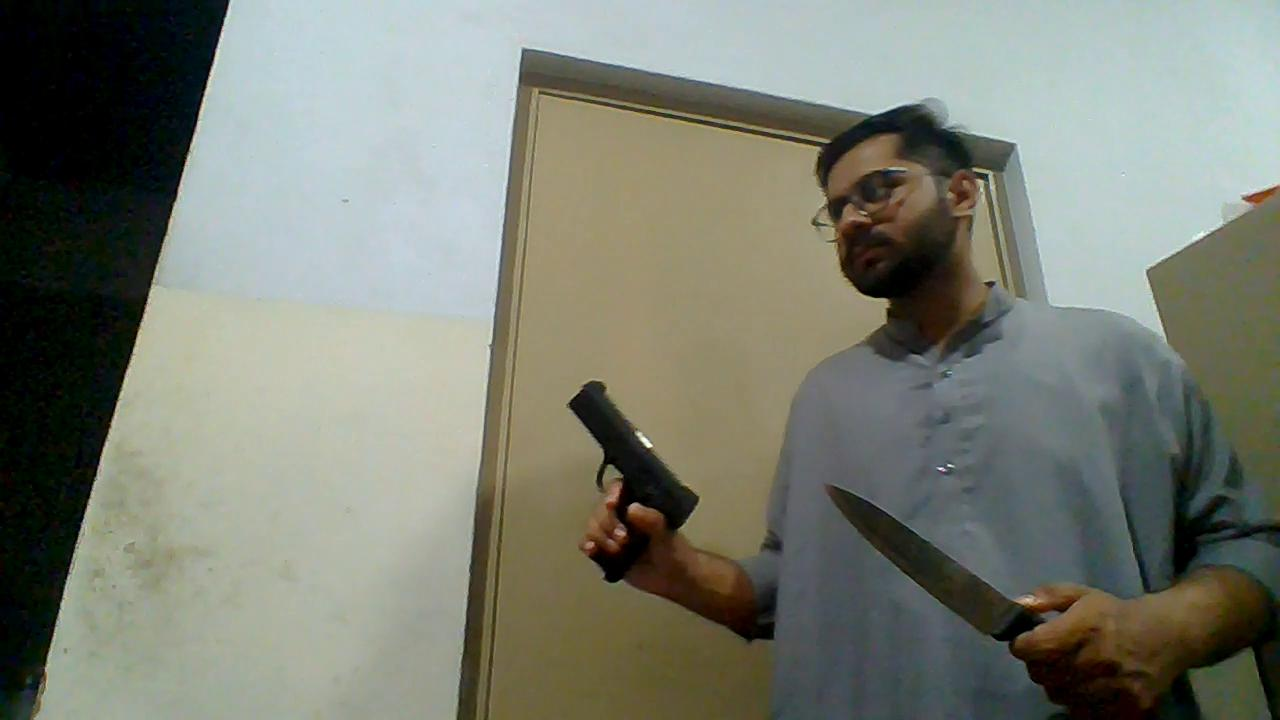criminal: (565, 96, 1280, 720)
weapon: (820, 482, 1045, 640), (567, 377, 701, 586)
